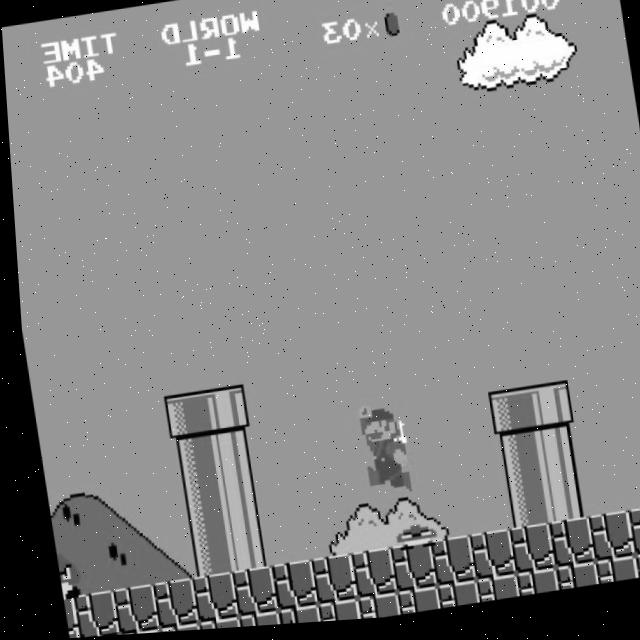0- big_mario: (352, 402, 408, 502)
14- pipe: (216, 522, 264, 574), (533, 478, 581, 529), (487, 438, 535, 489), (203, 432, 251, 483), (176, 528, 224, 579), (527, 432, 574, 484), (494, 483, 541, 535), (163, 438, 211, 488), (210, 477, 257, 528), (170, 483, 217, 534)
15- pipe_head: (157, 392, 205, 443), (197, 386, 244, 438), (520, 388, 568, 438), (481, 393, 529, 443)
17- undestructible_block: (539, 523, 587, 575), (341, 551, 389, 603), (262, 562, 310, 614), (103, 584, 151, 636), (579, 518, 627, 569), (500, 529, 548, 580), (460, 535, 508, 586), (381, 546, 429, 597), (222, 568, 270, 619), (421, 540, 468, 592), (143, 579, 190, 631), (302, 557, 349, 608), (183, 574, 230, 625), (63, 590, 111, 638), (507, 574, 551, 603), (467, 579, 511, 608), (586, 563, 630, 591), (546, 569, 590, 597), (427, 585, 471, 613), (388, 591, 432, 619), (347, 596, 392, 623), (307, 601, 352, 626), (619, 512, 640, 564), (268, 607, 312, 628), (54, 595, 72, 639), (229, 612, 273, 630), (189, 619, 233, 632), (149, 624, 193, 634), (625, 558, 640, 586)
8- goomba: (48, 548, 77, 601)
